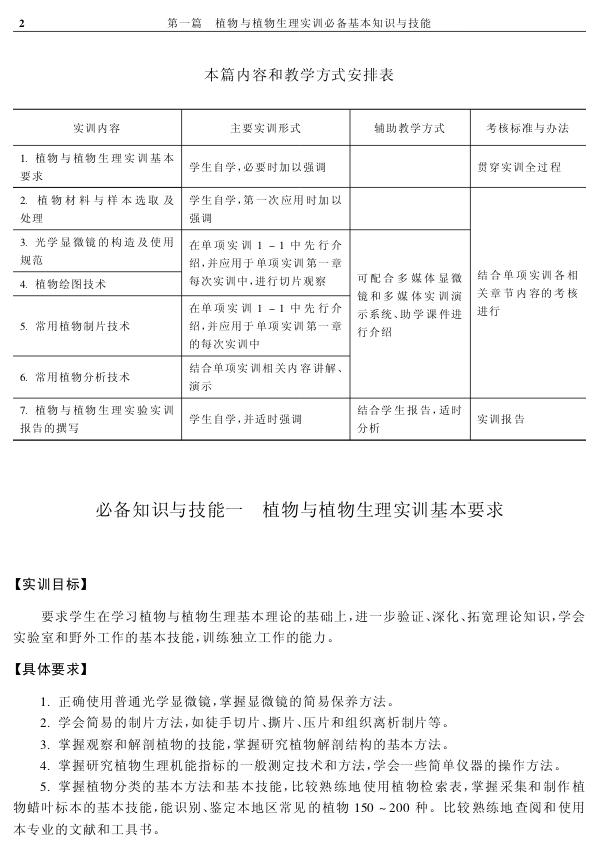table: (12, 107, 585, 441)
